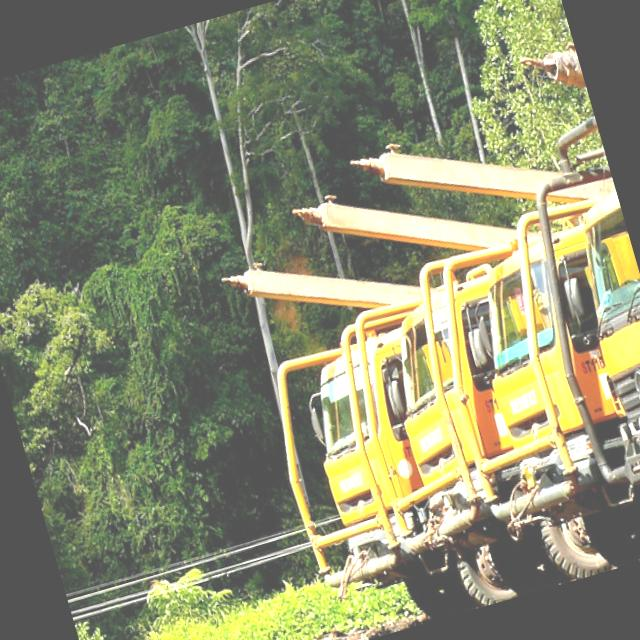Vehicle: (283, 142, 615, 628), (351, 110, 640, 607), (218, 219, 510, 640), (474, 37, 640, 567)
